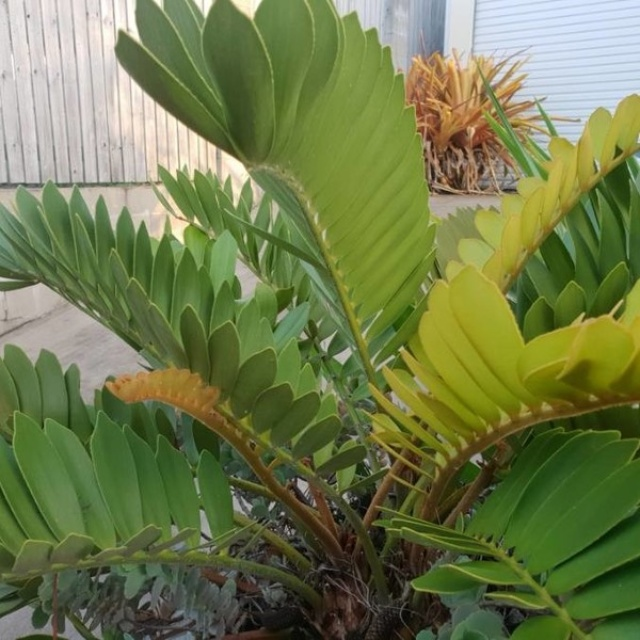obstacle: (6, 51, 593, 625)
